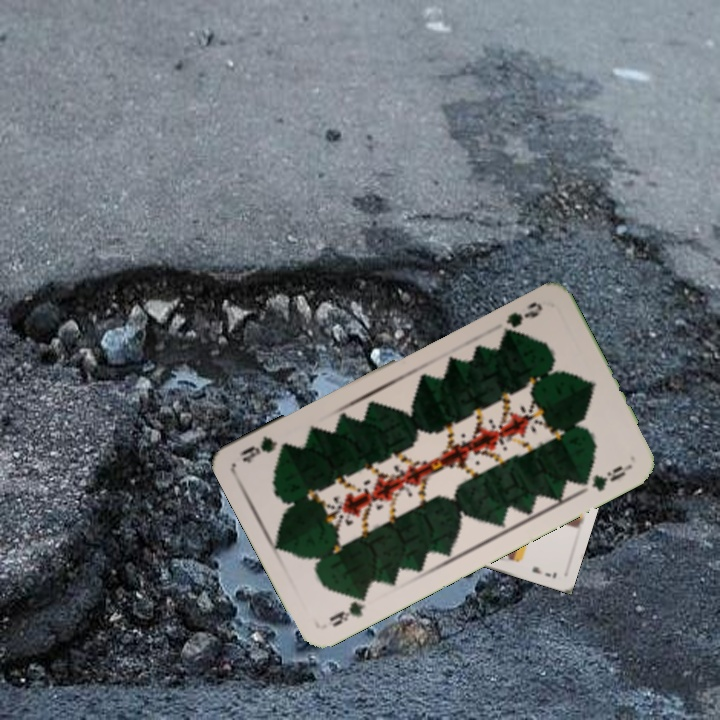G9: (325, 588, 371, 630), (498, 297, 545, 338)
